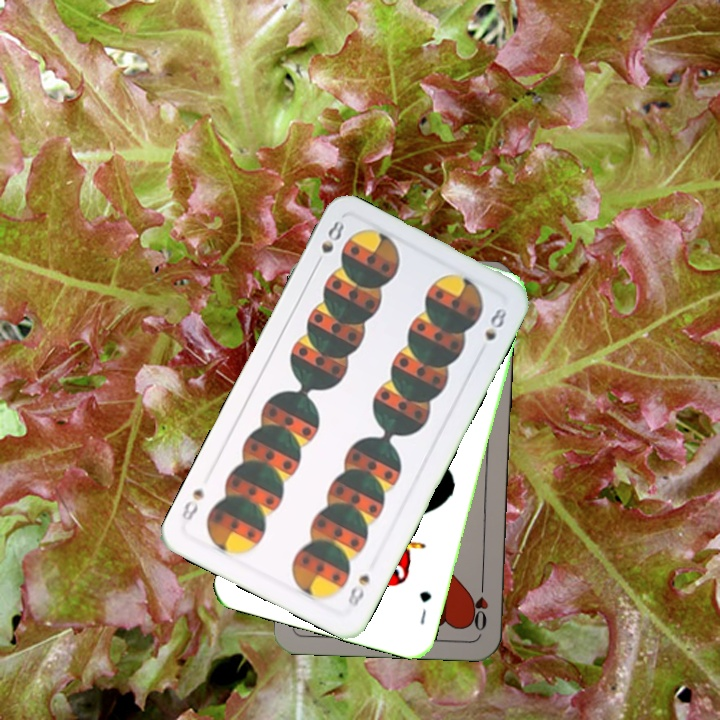GU: (415, 587, 435, 628)
HO: (467, 576, 491, 634)
S8: (310, 216, 347, 271), (344, 570, 373, 610)
